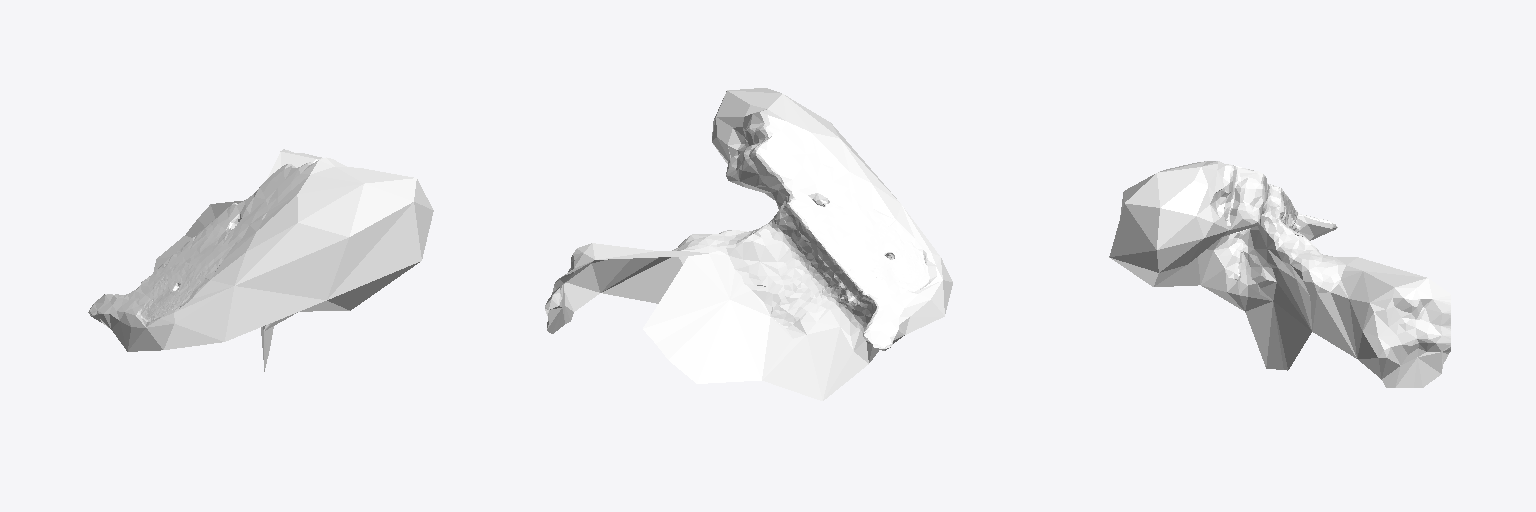
Rendered from Lamp.obj.
3 views of the same model, side by side, from view 1: azimuth 30°, elevation 25°; view 2: azimuth 150°, elevation 25°; view 3: azimuth 270°, elevation 25° (orthographic).
Bounding box in the file's own units: 25.33 × 17.72 × 24.53.